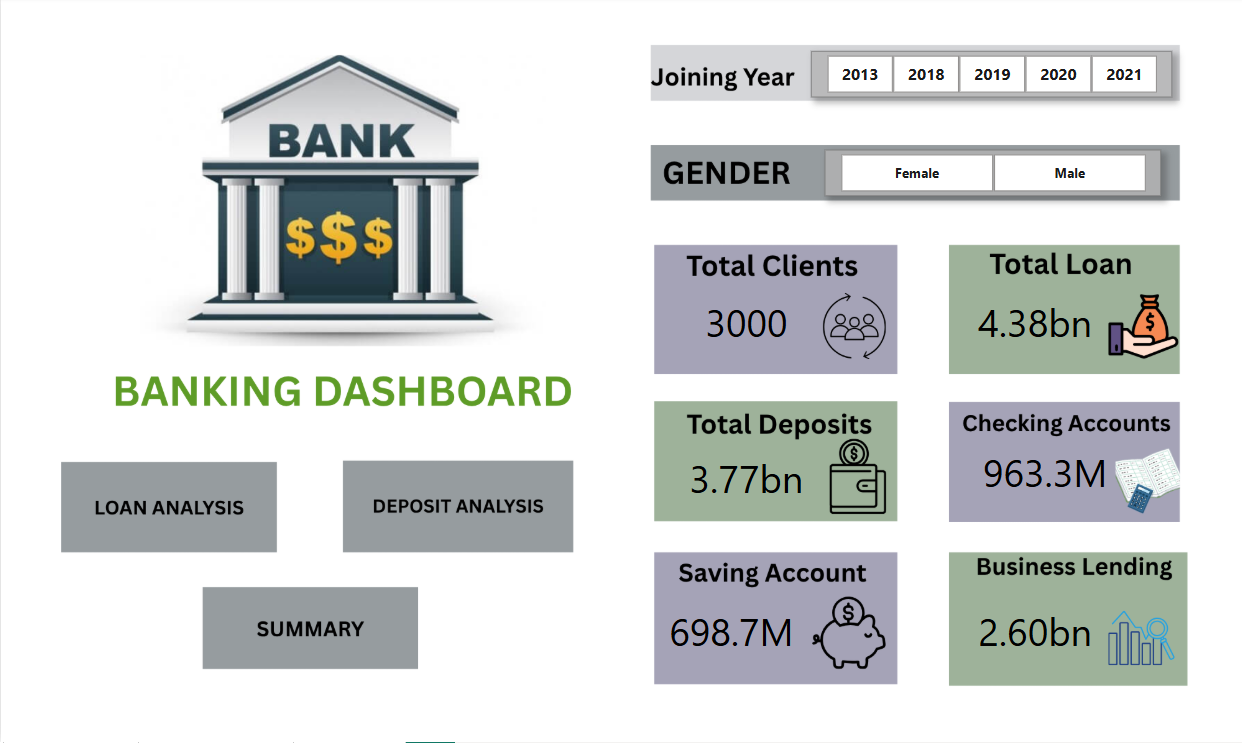

What the dashboard file says about the page in this screenshot:
{"tool":"powerbi","page":{"name":"Home","canvas":[2000,1200],"ordinal":0},"visuals":[{"type":"card","fields":{"Values":["CountNonNull(Banking_Clients.Client ID)"]},"box":[1085.8,476.5,227.2,90.5],"z":0},{"type":"card","fields":{"Values":["Banking_Clients.Total loan"]},"box":[1514.1,470.5,299.6,104.6],"z":1000},{"type":"card","fields":{"Values":["Banking_Clients.Total Deposit"]},"box":[1049.6,717.8,299.6,110.6],"z":2000},{"type":"card","fields":{"Values":["Sum(Banking_Clients.Checking Accounts)"]},"box":[1530.2,717.8,299.6,92.5],"z":3000},{"type":"card","fields":{"Values":["Sum(Banking_Clients.Saving Accounts)"]},"box":[1025.5,975.2,299.6,86.5],"z":4000},{"type":"card","fields":{"Values":["Sum(Banking_Clients.Business Lending)"]},"box":[1514.1,975.2,299.6,86.5],"z":5000},{"type":"slicer","fields":{"Values":["Banking_Clients.GenderId"]},"box":[1325.1,247.3,540.9,74.4],"z":6000},{"type":"slicer","fields":{"Values":["Banking_Clients.Year of joining"]},"box":[1303,88.5,581.1,74.4],"z":7000},{"type":"actionButton","box":[108.6,758,329.8,126.7],"z":8000},{"type":"actionButton","box":[591.2,758,293.6,126.7],"z":9000},{"type":"actionButton","box":[370,965.2,263.4,106.6],"z":10000}]}

Visuals, with their boxes in screenshot pixels (x1, y1, x2, y2), scaled from the page's 2000x1200 canvas onto the 1242x743 screenshot:
card - CountNonNull(Banking_Clients.Client ID): <region>674, 295, 815, 351</region>
card - Banking_Clients.Total loan: <region>940, 291, 1126, 356</region>
card - Banking_Clients.Total Deposit: <region>652, 444, 838, 513</region>
card - Sum(Banking_Clients.Checking Accounts): <region>950, 444, 1136, 502</region>
card - Sum(Banking_Clients.Saving Accounts): <region>637, 604, 823, 657</region>
card - Sum(Banking_Clients.Business Lending): <region>940, 604, 1126, 657</region>
slicer - Banking_Clients.GenderId: <region>823, 153, 1159, 199</region>
slicer - Banking_Clients.Year of joining: <region>809, 55, 1170, 101</region>
actionButton: <region>67, 469, 272, 548</region>
actionButton: <region>367, 469, 549, 548</region>
actionButton: <region>230, 598, 393, 664</region>
